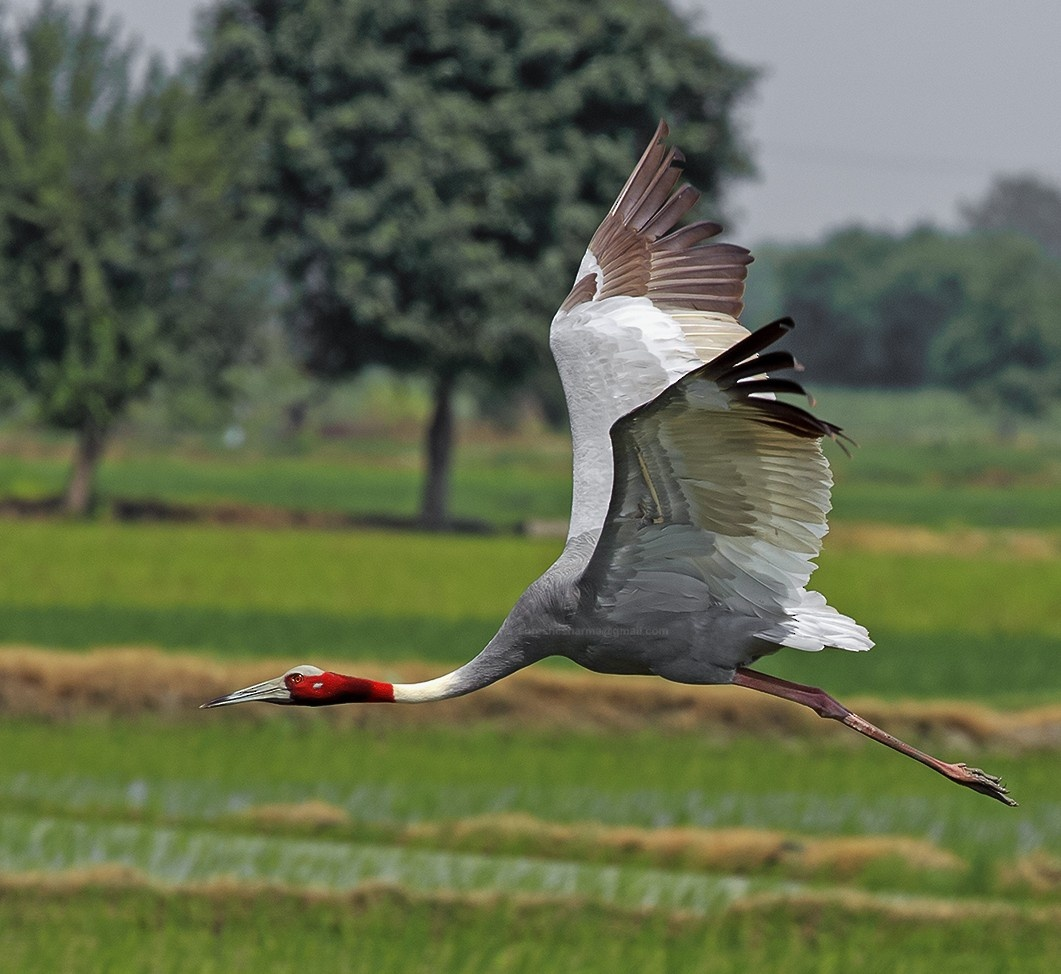crane: (190, 110, 1027, 839)
